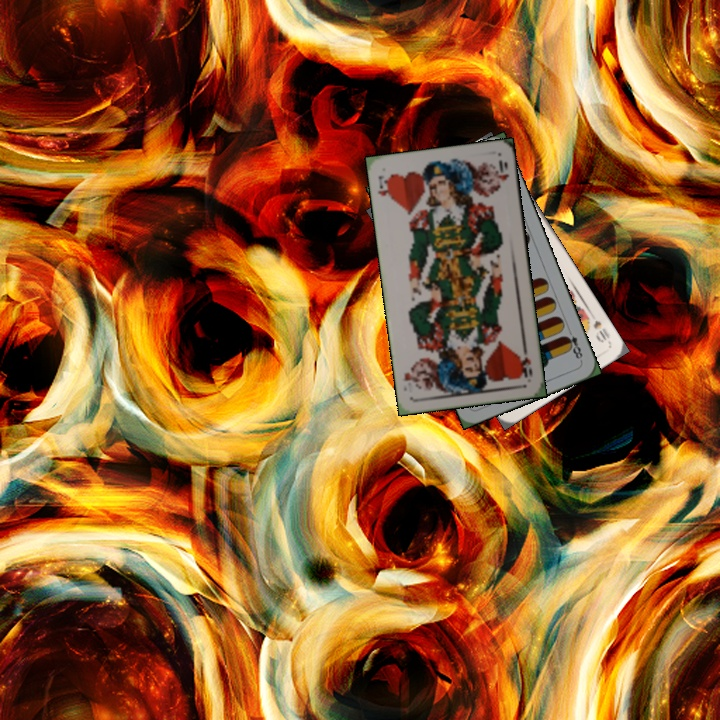E8: (560, 325, 585, 364)
HO: (516, 341, 535, 380), (374, 172, 394, 202)
S10: (589, 316, 613, 345)
